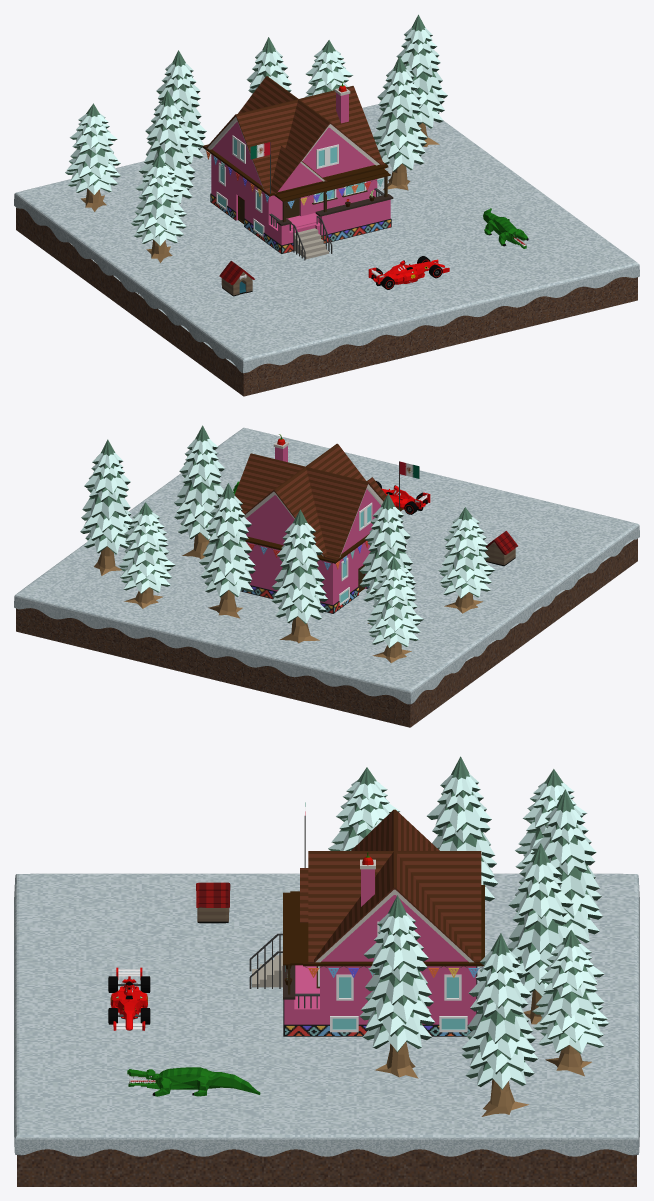
3 renders of one model, top to bottom at view 1: azimuth 30°, elevation 25°; view 2: azimuth 150°, elevation 25°; view 3: azimuth 270°, elevation 25°, orthographic. The views are drawn at different scales.
Visible parts, largest first — view 1: Cube.003, Cube.1005, VEHICLES_FORMULA_1, ANIMAL_COCODRILO, OBJRANDOM_DOGHOUSE; view 2: Cube.003, Cube.1005, OBJRANDOM_DOGHOUSE, VEHICLES_FORMULA_1; view 3: Cube.003, Cube.1005, ANIMAL_COCODRILO, VEHICLES_FORMULA_1, OBJRANDOM_DOGHOUSE.
Boxes of the visible parts, left/top/right/bottom form: Cube.003: left=14, top=14, right=639, bottom=396; Cube.1005: left=202, top=76, right=393, bottom=260; VEHICLES_FORMULA_1: left=368, top=256, right=449, bottom=289; ANIMAL_COCODRILO: left=483, top=208, right=528, bottom=248; OBJRANDOM_DOGHOUSE: left=219, top=261, right=254, bottom=296; Cube.003: left=14, top=425, right=639, bottom=727; Cube.1005: left=234, top=434, right=419, bottom=613; OBJRANDOM_DOGHOUSE: left=485, top=531, right=517, bottom=566; VEHICLES_FORMULA_1: left=376, top=481, right=430, bottom=514; Cube.003: left=14, top=756, right=639, bottom=1186; Cube.1005: left=249, top=802, right=484, bottom=1036; ANIMAL_COCODRILO: left=127, top=1067, right=260, bottom=1096; VEHICLES_FORMULA_1: left=108, top=967, right=150, bottom=1030; OBJRANDOM_DOGHOUSE: left=196, top=882, right=230, bottom=923.
Bounding box in the file's own units: 4040 × 1692 × 4040.
Materials: 77 (5 with a texture image).
